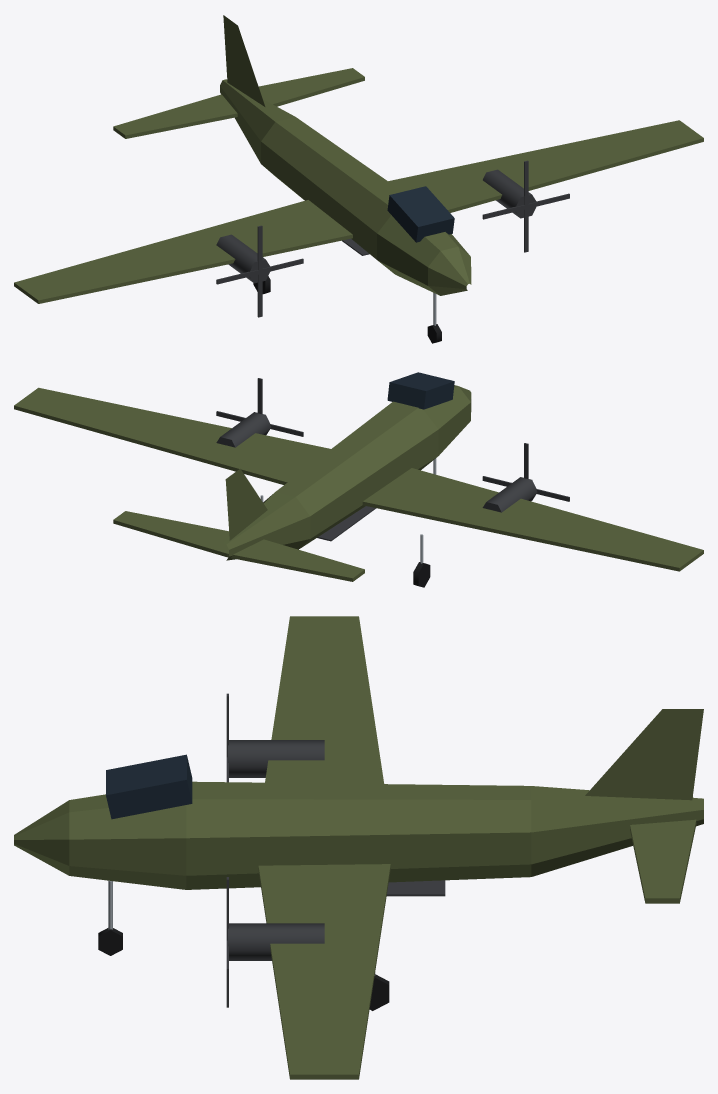
The model's file is veh_air_bomber_a06.glb.
3 renders of one model, top to bottom at view 1: azimuth 30°, elevation 25°; view 2: azimuth 150°, elevation 25°; view 3: azimuth 270°, elevation 25°, orthographic. The views are drawn at different scales.
Parts seen in each view (by area): view 1: body, propeller_0, propeller_1; view 2: body, propeller_1, propeller_0, gear_1; view 3: body, gear_0.
Boxes of the visible parts, bbox=[...] form: body: bbox=[14, 15, 703, 303]; propeller_0: bbox=[216, 225, 303, 317]; propeller_1: bbox=[482, 160, 569, 252]; body: bbox=[14, 372, 703, 581]; propeller_1: bbox=[216, 378, 303, 436]; propeller_0: bbox=[482, 443, 569, 501]; gear_1: bbox=[413, 534, 430, 587]; body: bbox=[14, 616, 703, 1079]; gear_0: bbox=[98, 880, 122, 955].
Size of what is drawn, in the model's own units: 22.66 by 5.68 by 14.42.
